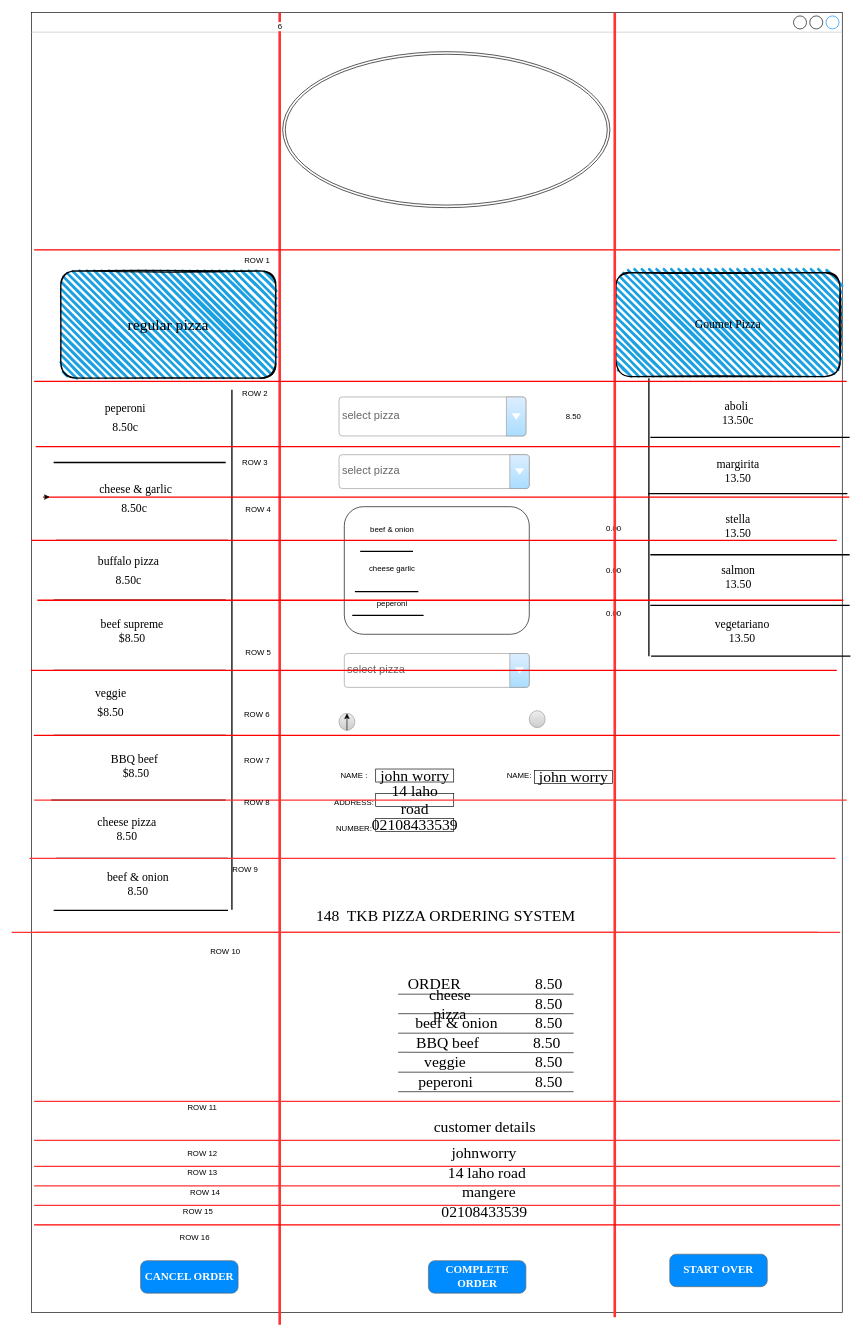
This 863x1337 diagram has some shape labels left out. The shapes that lost their labels are listed below. From the top down, each one's centre as x and y in pixels, then its label:
At point (446, 129): "148 TKB PIZZA SHOP".
At point (346, 721): "delivery $3.00".
At point (537, 719): "pick up".
